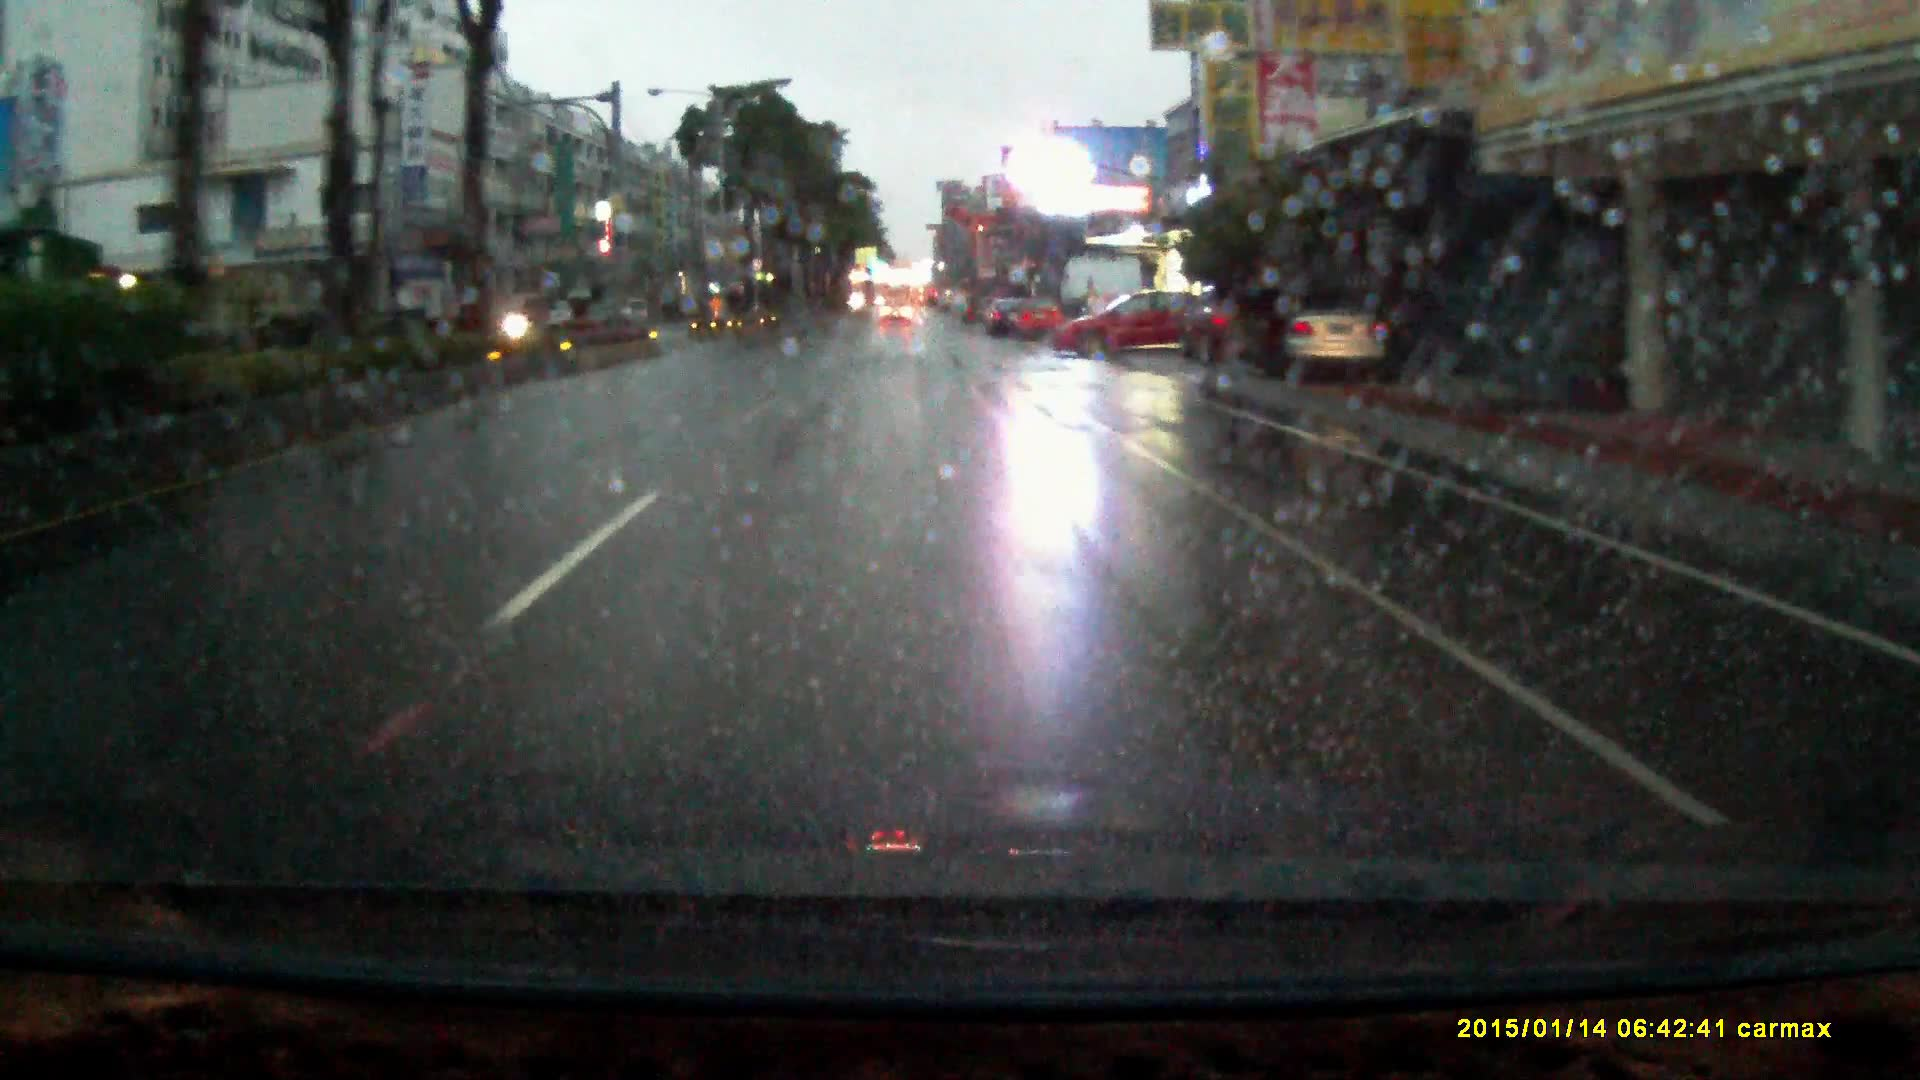vehicle: (1267, 293, 1399, 386), (1047, 289, 1205, 359), (1178, 280, 1294, 371), (469, 295, 553, 344), (1009, 295, 1063, 342), (982, 298, 1029, 340), (882, 301, 915, 328)
